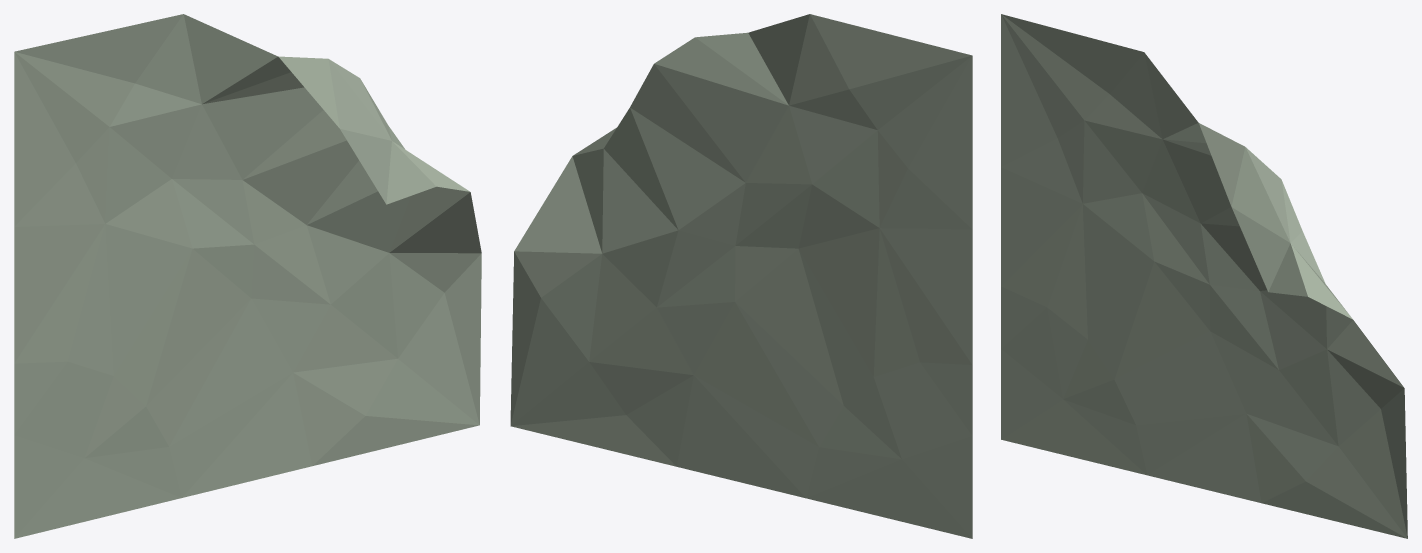
Rendered from Wallpapper_04.fbx.
3 views of the same model, side by side, from view 1: azimuth 30°, elevation 25°; view 2: azimuth 150°, elevation 25°; view 3: azimuth 330°, elevation 25° (orthographic). The views are drawn at different scales.
Visible parts, largest first — view 1: Wallpapper_04; view 2: Wallpapper_04; view 3: Wallpapper_04.
Part boxes in pixels (box(x1,y1,x2,y2)): Wallpapper_04: box(14, 14, 481, 538); Wallpapper_04: box(510, 14, 972, 538); Wallpapper_04: box(1001, 14, 1407, 538).
Bounding box in the file's own units: 100 × 100 × 14.02.
1 material, 1 textured.
